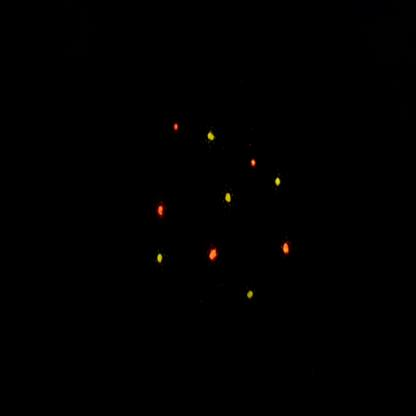PE: (150, 243, 169, 276), (221, 182, 237, 216), (205, 122, 222, 151), (241, 284, 258, 312), (272, 171, 285, 195)
PVC: (202, 240, 227, 279), (277, 235, 300, 266), (154, 196, 171, 223), (166, 119, 190, 138), (247, 152, 263, 178)
